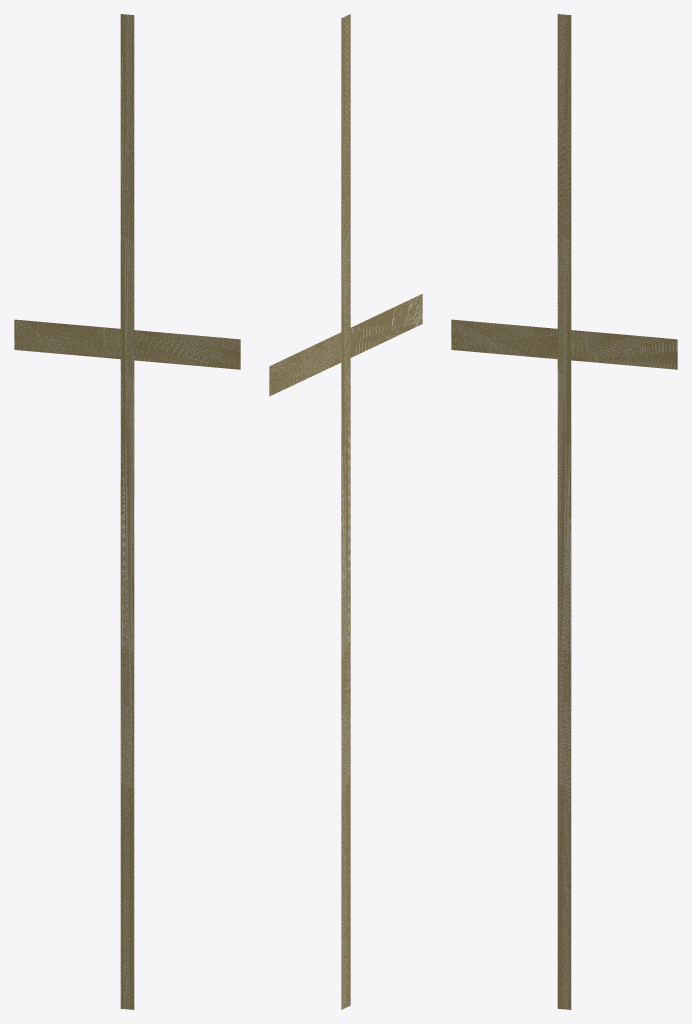
Rendered from 大本钟204.dae.
3 views of the same model, side by side, from view 1: azimuth 90°, elevation 25°; view 2: azimuth 150°, elevation 25°; view 3: azimuth 270°, elevation 25° (orthographic).
Visible parts, largest first — view 1: SketchUp; view 2: SketchUp; view 3: SketchUp.
Boxes of the visible parts, box(x1,y1,x2,y2) form: SketchUp: box(14, 14, 240, 1009); SketchUp: box(269, 14, 422, 1009); SketchUp: box(451, 14, 677, 1009).
Bounding box in the file's own units: 6.8 × 32.79 × 159.
